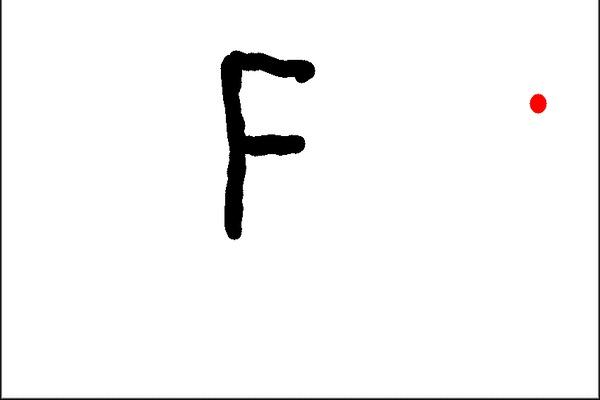F: (216, 46, 319, 243)
